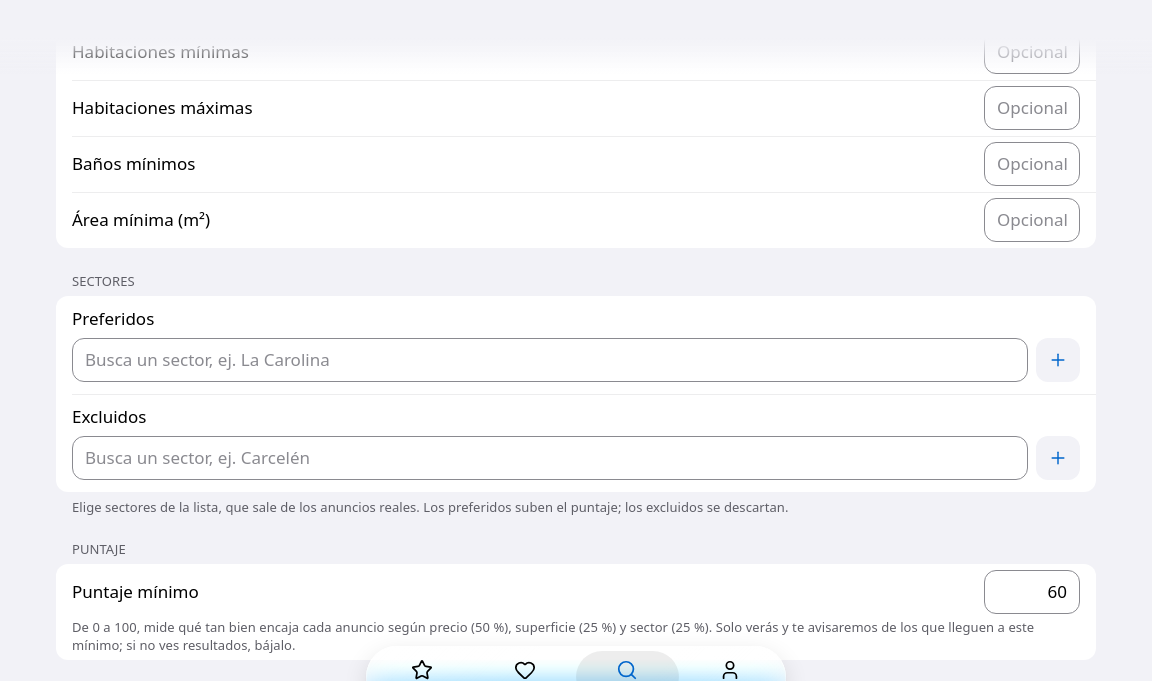
it: SearchProfilePage › suggests real sectors while typing and adds the one picked
(page scrolled)
Type "carol" into the dropdown labelled "Preferidos" at [550, 360], box x1=72 y1=338 x2=1028 y2=382
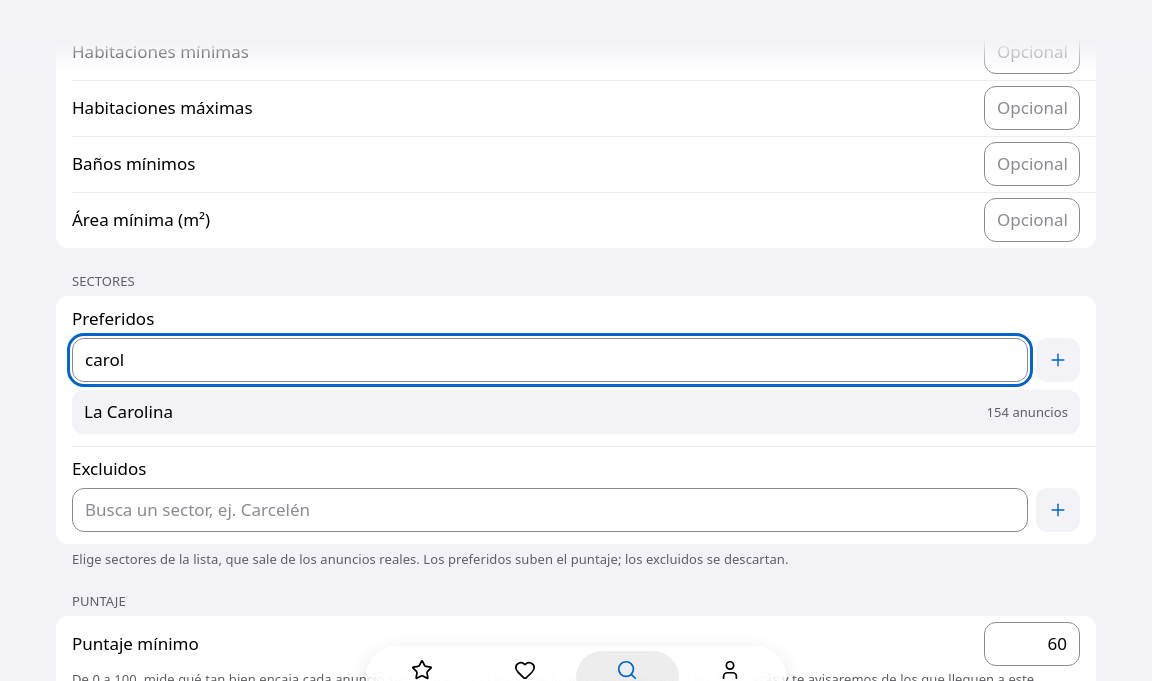
Click the option "La Carolina 154 anuncios" at [128, 412], box x1=84 y1=400 x2=1068 y2=423
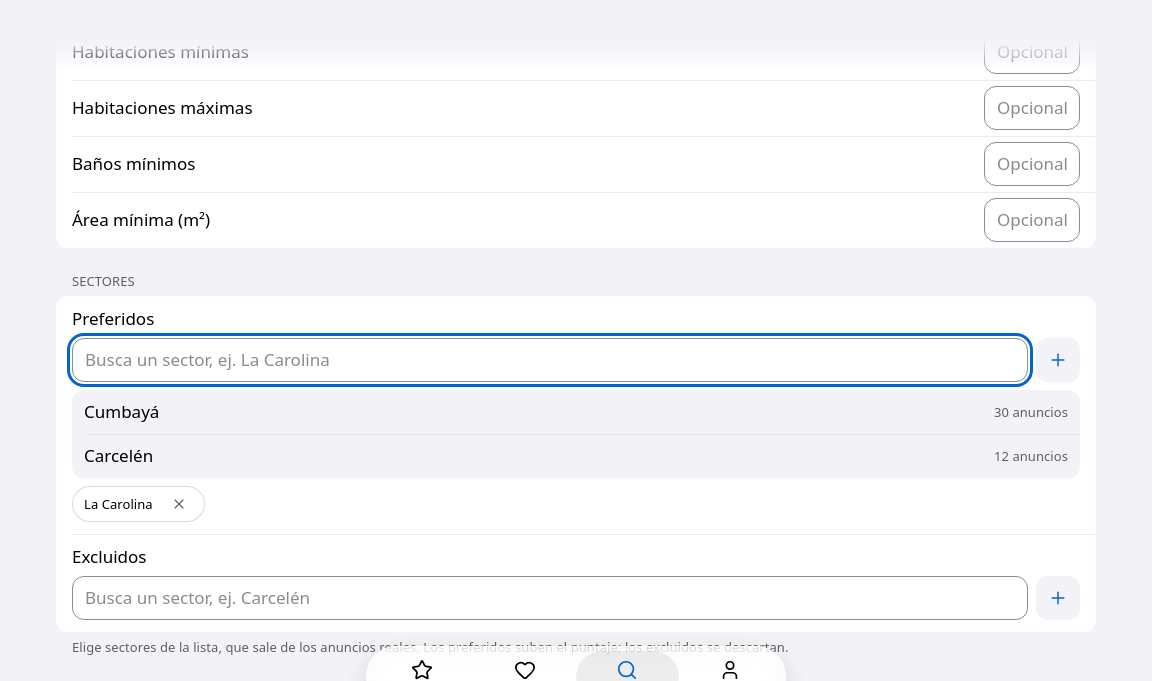
Now the list named "Preferidos agregados" reads "La Carolina", box x1=84 y1=495 x2=153 y2=513
Now the dropdown labelled "Preferidos" is empty, box x1=72 y1=338 x2=1028 y2=382
